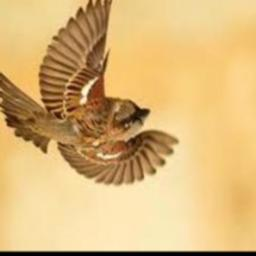Sparrow: (0, 0, 180, 186)
